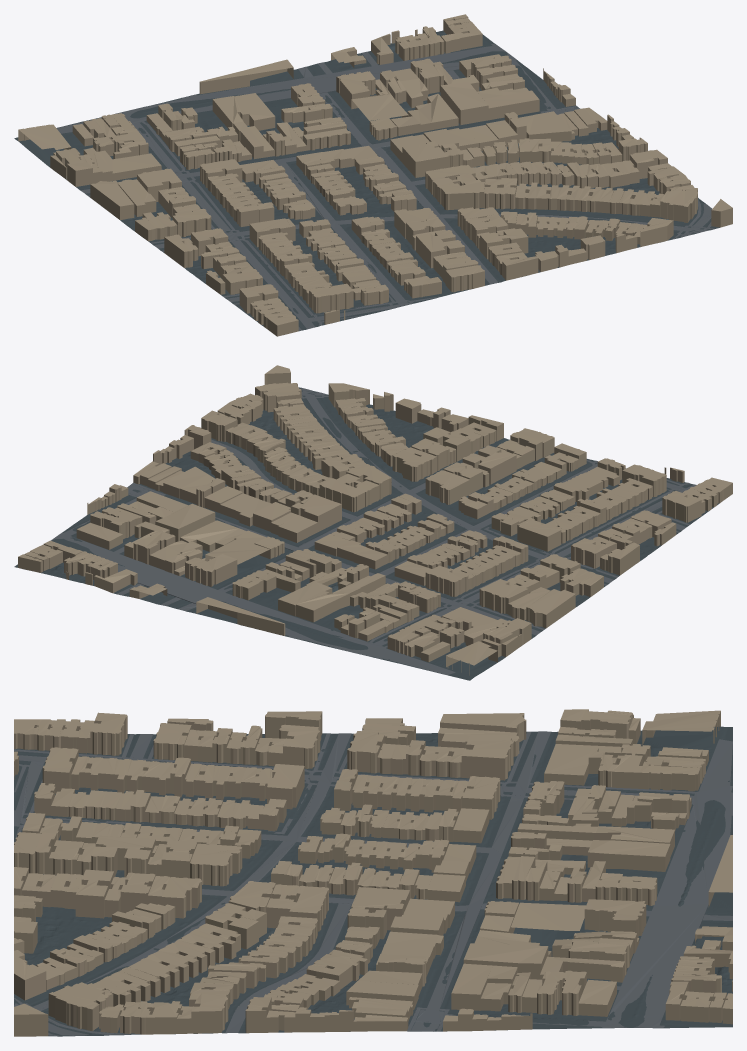
The model's file is epsg26910-1430-10895.lod0.glb.
The picture shows the model from 3 angles, top to bottom: view 1: azimuth 30°, elevation 25°; view 2: azimuth 150°, elevation 25°; view 3: azimuth 270°, elevation 25°; orthographic projection. The views are drawn at different scales.
Visible parts, largest first — view 1: epsg26910-1430-10895-lod0; view 2: epsg26910-1430-10895-lod0; view 3: epsg26910-1430-10895-lod0.
Part boxes in pixels (box(x1,y1,x2,y2)): epsg26910-1430-10895-lod0: box(14, 14, 732, 336); epsg26910-1430-10895-lod0: box(14, 365, 732, 680); epsg26910-1430-10895-lod0: box(14, 709, 732, 1036).
Bounding box in the file's own units: 384 × 19.51 × 384.
